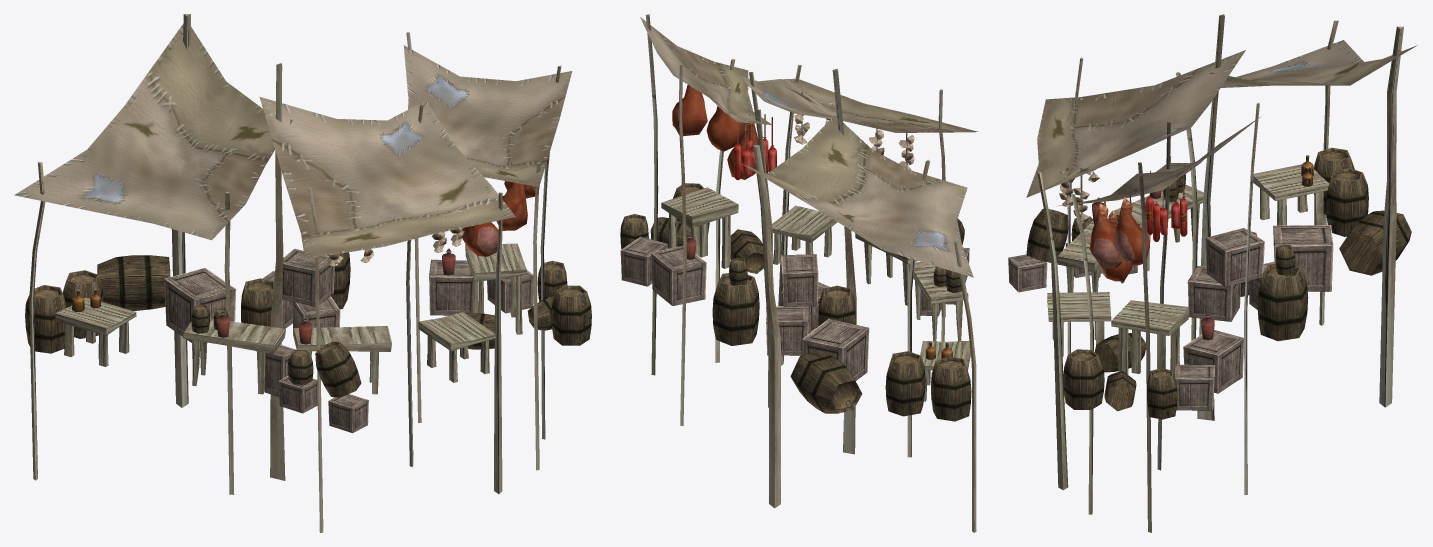
File: 3shanty_tents.fbx
The picture shows the model from 3 angles, left to right: view 1: azimuth 30°, elevation 25°; view 2: azimuth 150°, elevation 25°; view 3: azimuth 270°, elevation 25°; orthographic projection. The views are drawn at different scales.
Parts seen in each view (by area): view 1: canopy6, canopy5, canopy8, barrel_07_High, crate_01_High5, post23, crate_01_High4, crate_01_High1, barrel_01_High, barrel_10_High, post13, polySurface14.003 (+25 smaller); view 2: canopy6, canopy5, canopy8, post22, barrel_07_High, barrel_05_High, crate_01_High1, crate_01_High5, barrel_10_High, barrel_09_High, crate_01_High4, polySurface14.002 (+25 smaller); view 3: canopy5, post22, canopy6, barrel_05_High, crate_01_High5, crate_01_High4, barrel_07_High, post13, crate_01_High1, barrel_09_High, barrel_01_High, crate_01_High3 (+28 smaller).
Boxes of the visible parts, bbox=[...] form: canopy6: bbox=[14, 23, 292, 240]; canopy5: bbox=[259, 96, 515, 258]; canopy8: bbox=[403, 45, 572, 186]; barrel_07_High: bbox=[97, 255, 170, 310]; crate_01_High5: bbox=[164, 268, 236, 342]; post23: bbox=[270, 63, 285, 480]; crate_01_High4: bbox=[282, 248, 334, 306]; crate_01_High1: bbox=[429, 259, 472, 315]; barrel_01_High: bbox=[551, 285, 591, 345]; barrel_10_High: bbox=[25, 285, 66, 353]; post13: bbox=[494, 192, 502, 493]; polySurface14.003: bbox=[183, 318, 285, 353]; canopy6: bbox=[741, 115, 973, 277]; canopy5: bbox=[738, 75, 978, 132]; canopy8: bbox=[640, 17, 771, 124]; post22: bbox=[753, 145, 780, 508]; barrel_07_High: bbox=[790, 350, 862, 413]; barrel_05_High: bbox=[712, 273, 759, 345]; crate_01_High1: bbox=[651, 245, 706, 305]; crate_01_High5: bbox=[802, 318, 869, 380]; barrel_10_High: bbox=[931, 356, 971, 421]; barrel_09_High: bbox=[885, 351, 925, 416]; crate_01_High4: bbox=[781, 254, 818, 307]; polySurface14.002: bbox=[661, 187, 738, 227]; canopy5: bbox=[1026, 50, 1245, 197]; post22: bbox=[1379, 26, 1403, 407]; canopy6: bbox=[1210, 40, 1417, 87]; barrel_05_High: bbox=[1257, 263, 1308, 341]; crate_01_High5: bbox=[1273, 225, 1333, 291]; crate_01_High4: bbox=[1205, 228, 1264, 287]; barrel_07_High: bbox=[1339, 210, 1411, 275]; post13: bbox=[1037, 172, 1068, 490]; crate_01_High1: bbox=[1183, 330, 1244, 393]; barrel_09_High: bbox=[1326, 168, 1368, 236]; barrel_01_High: bbox=[1063, 349, 1104, 409]; crate_01_High3: bbox=[1187, 266, 1240, 321].
Size of the model in its own units: 2709 by 2268 by 2074.
2 materials, 2 textured.
